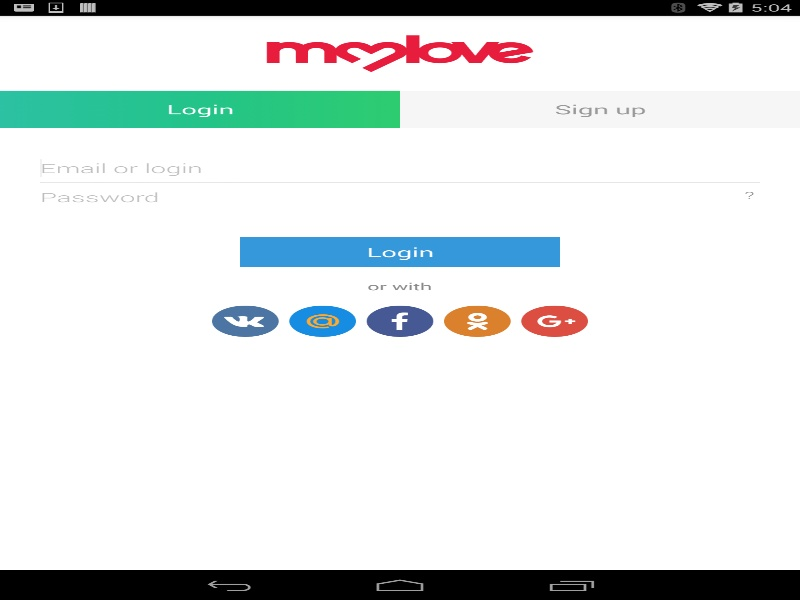Button: (240, 237, 560, 267), (289, 305, 356, 336), (366, 305, 433, 336), (521, 305, 588, 336), (212, 305, 278, 336), (444, 305, 510, 336)
Input: (40, 159, 760, 176), (40, 188, 760, 205)
